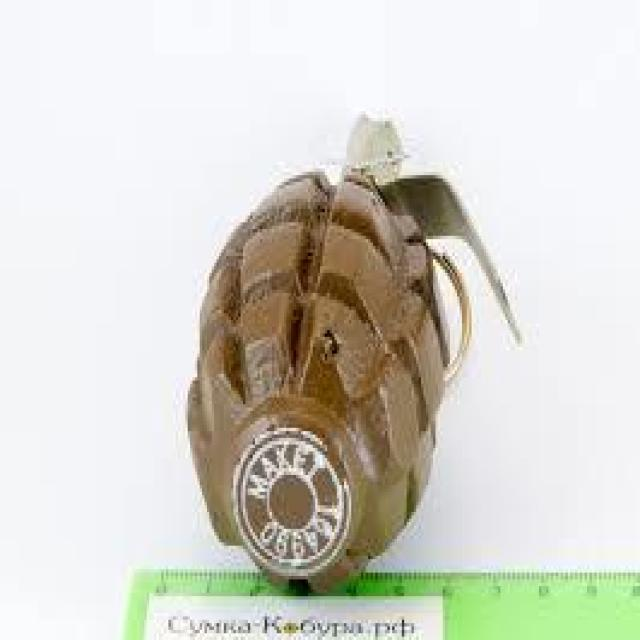grenade: (189, 101, 526, 586)
